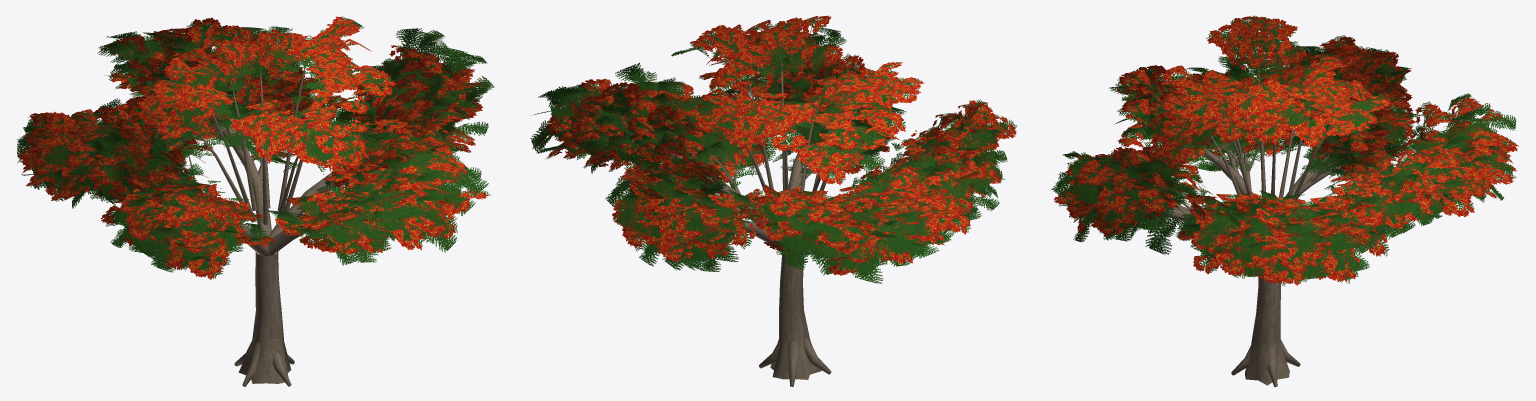
File: veg-tree-flame-poinciana-lod0-fb7f015898c9.glb
3 views of the same model, side by side, from view 1: azimuth 30°, elevation 25°; view 2: azimuth 150°, elevation 25°; view 3: azimuth 270°, elevation 25° (orthographic). The views are drawn at different scales.
Parts seen in each view (by area): view 1: veg-tree-flame-poinciana_lod0; view 2: veg-tree-flame-poinciana_lod0; view 3: veg-tree-flame-poinciana_lod0.
Part boxes in pixels (bbox=[...]): veg-tree-flame-poinciana_lod0: bbox=[17, 16, 494, 386]; veg-tree-flame-poinciana_lod0: bbox=[530, 15, 1016, 386]; veg-tree-flame-poinciana_lod0: bbox=[1051, 15, 1518, 386].
Bounding box in the file's own units: 10.7 × 7.5 × 10.1.
Materials: 2 (2 with a texture image).
